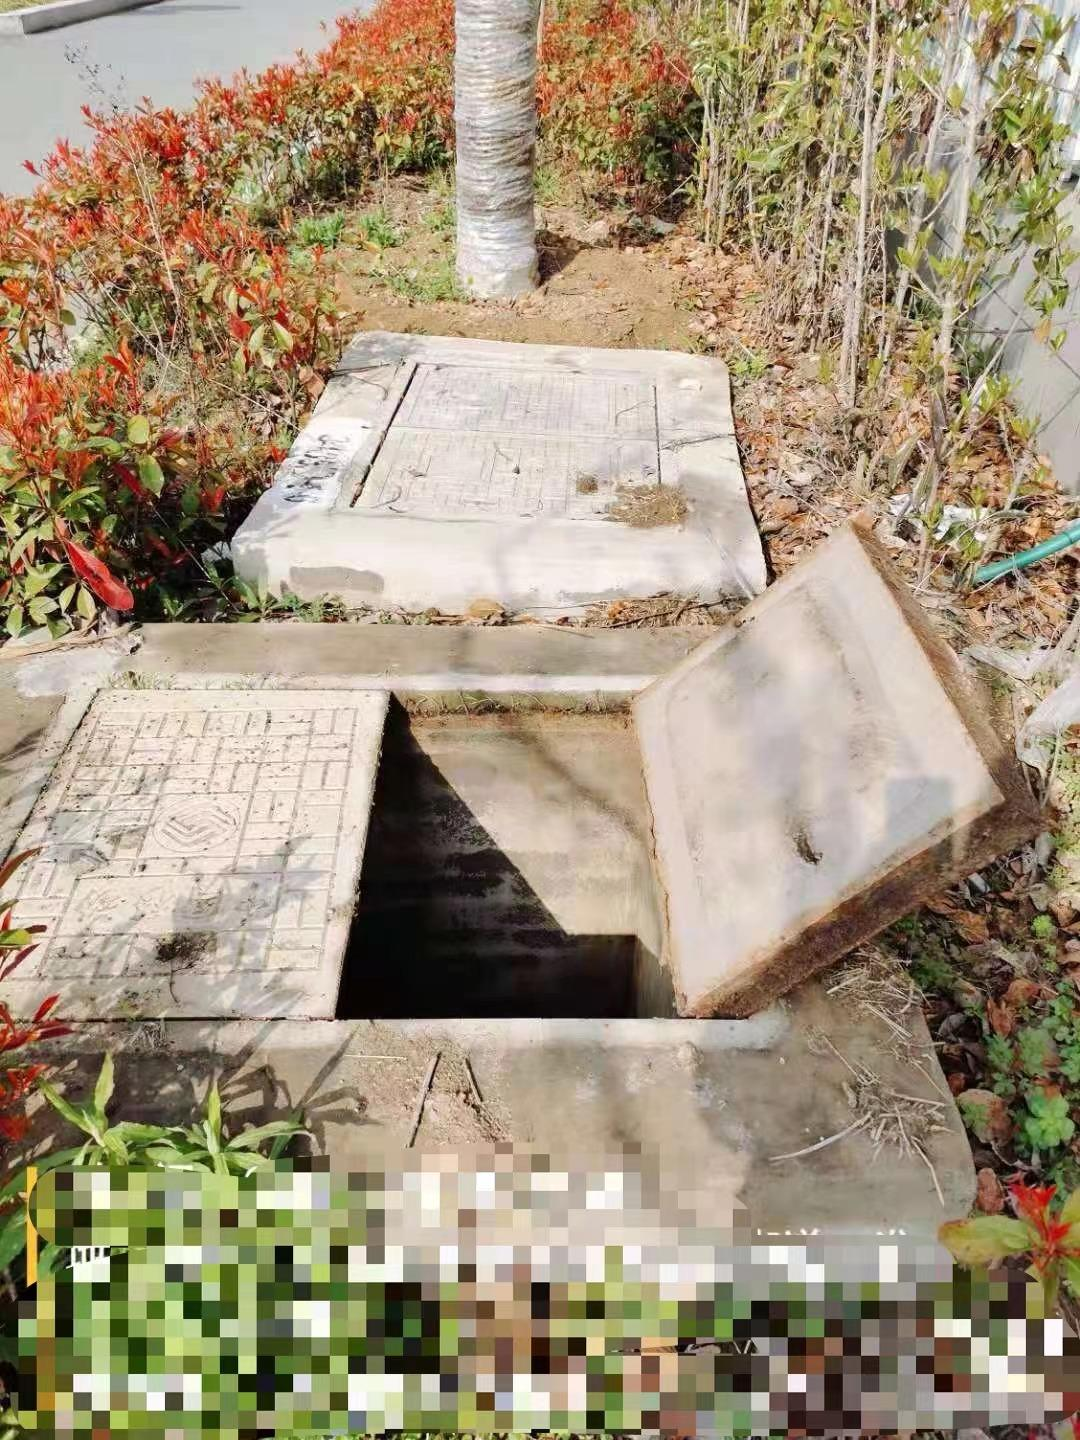wellcover: (0, 518, 1022, 1299), (216, 296, 782, 610)
